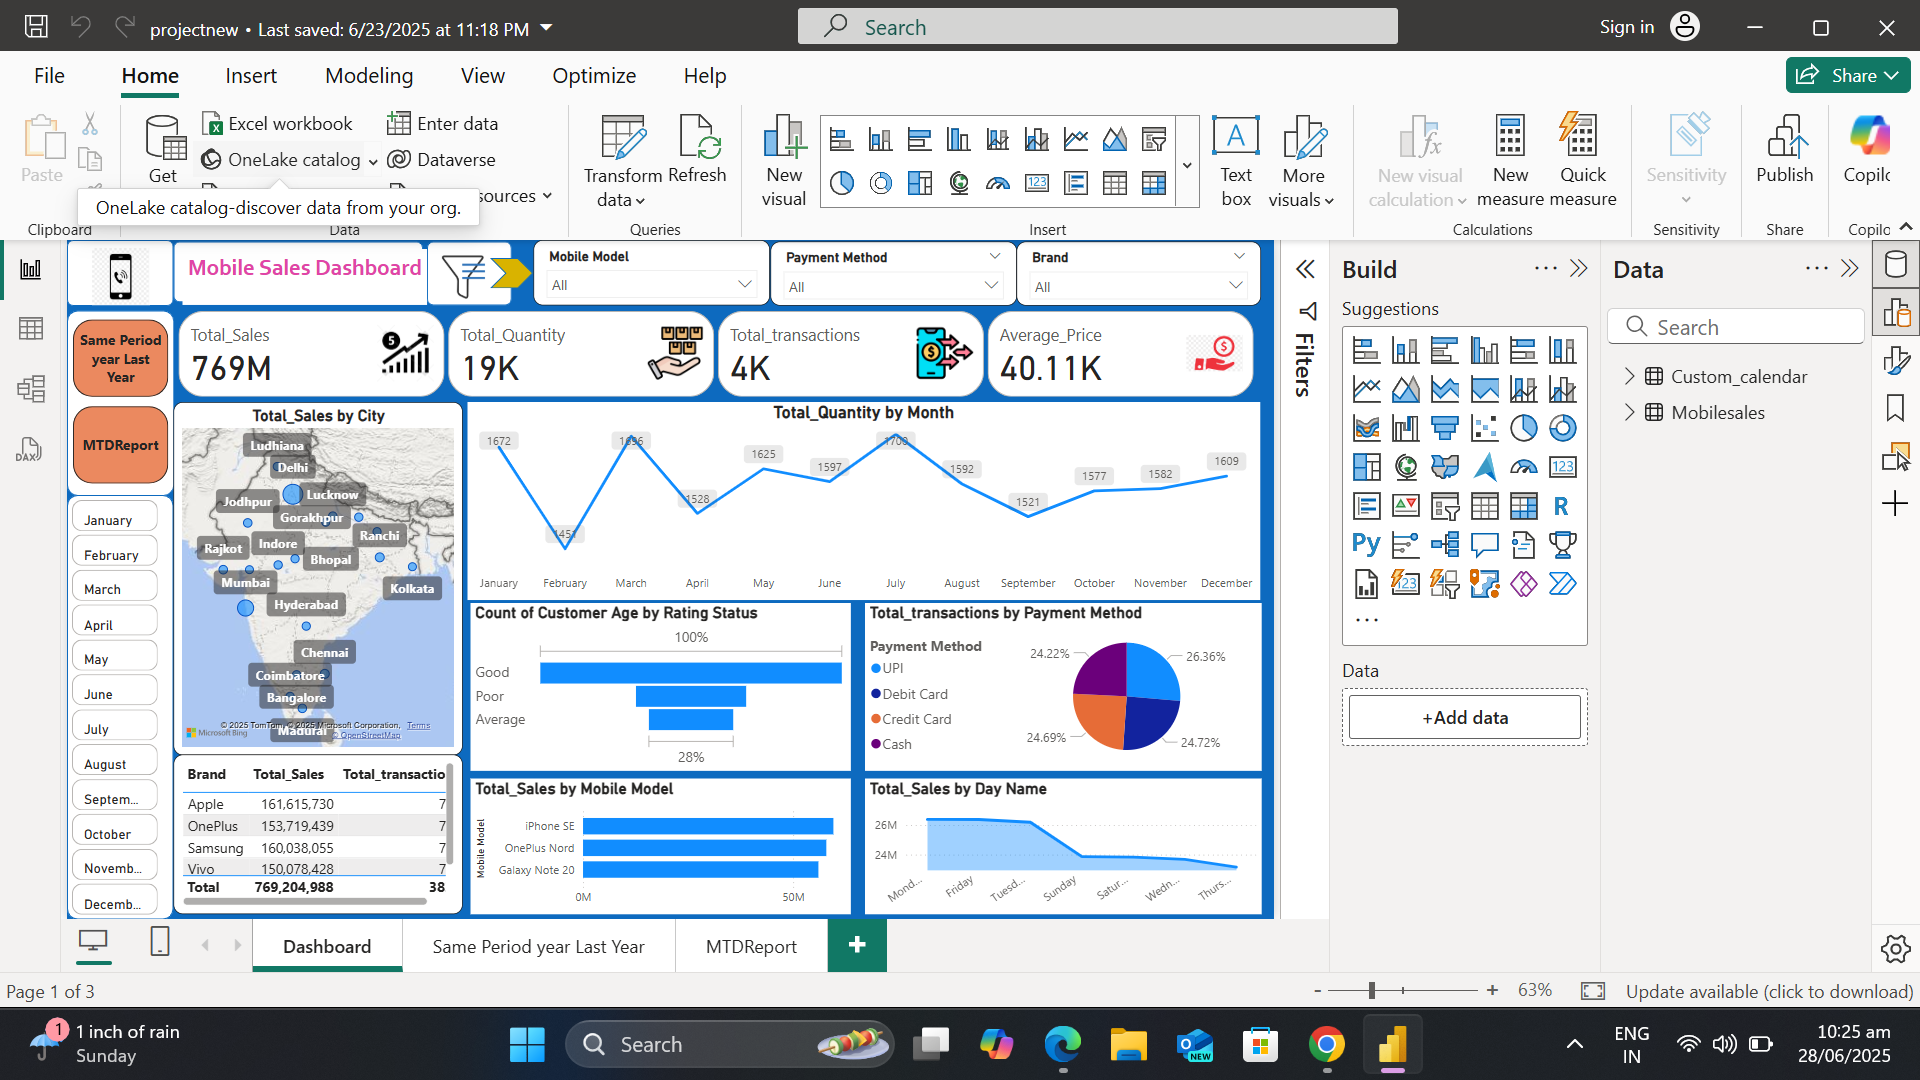

Layout of this report page (visuals, bound fields, positions):
{"tool":"powerbi","page":{"name":"Dashboard","canvas":[1280,720],"ordinal":0},"visuals":[{"type":"shape","box":[0,0,112.9,70],"z":0},{"type":"shape","box":[0,74.6,113.6,196.6],"z":1000},{"type":"shape","box":[0,270.4,112.9,450.1],"z":2000},{"type":"advancedSlicerVisual","fields":{"Values":["Custom_calendar.Date.Variation.Date Hierarchy.Month"]},"box":[0,270.4,101.8,450.1],"z":3000},{"type":"cardVisual","fields":{"Data":["Mobilesales.Total_Sales","Mobilesales.Total_Quantity","Mobilesales.Total_transactions","Mobilesales.Average_Price"]},"box":[113.6,69.5,1152.5,101.7],"z":4000},{"type":"slicer","fields":{"Values":["Mobilesales.Mobile Model"]},"box":[494.9,0,250.8,69.5],"z":5000},{"type":"slicer","fields":{"Values":["Mobilesales.Payment Method"]},"box":[745.8,1.7,261,67.8],"z":6000},{"type":"slicer","fields":{"Values":["Mobilesales.Brand"]},"box":[1006.8,1.7,259.3,67.8],"z":7000},{"type":"shape","box":[381.4,1.7,89.8,67.8],"z":8000},{"type":"shape","box":[449.2,18.6,45.8,32.2],"z":9000},{"type":"shape","box":[113.6,1.7,264.4,64.4],"z":10000},{"type":"textbox","box":[122,10.2,259.3,59.3],"z":11000},{"type":"map","fields":{"Category":["Mobilesales.City"],"Size":["Mobilesales.Total_Sales"]},"box":[113.6,171.2,306.8,374.6],"z":12000},{"type":"lineChart","fields":{"Category":["Custom_calendar.Date.Variation.Date Hierarchy.Month"],"Y":["Mobilesales.Total_Quantity"]},"box":[425.4,171.2,840.7,210.2],"z":13000},{"type":"funnel","fields":{"Y":["CountNonNull(Mobilesales.Customer Age)"],"Category":["Mobilesales.Rating Status"]},"box":[427.1,384.7,403.4,178],"z":14000},{"type":"pieChart","fields":{"Y":["Mobilesales.Total_transactions"],"Category":["Mobilesales.Payment Method"]},"box":[845.8,384.7,420.3,178],"z":15000},{"type":"clusteredBarChart","fields":{"Y":["Mobilesales.Total_Sales"],"Category":["Mobilesales.Mobile Model"]},"box":[427.1,571.2,403.4,144.1],"z":16000},{"type":"areaChart","fields":{"Y":["Mobilesales.Total_Sales"],"Category":["Custom_calendar.Day Name"]},"box":[845.8,571.2,420.3,144.1],"z":17000},{"type":"tableEx","fields":{"Values":["Mobilesales.Brand","Mobilesales.Total_Sales","Mobilesales.Total_transactions"]},"box":[113.6,545.8,306.8,169.5],"z":18000},{"type":"image","box":[15.3,3.4,81.4,71.2],"z":19000},{"type":"image","box":[389.8,8.5,61,62.7],"z":20000},{"type":"pageNavigator","box":[6.1,85.1,101.3,174.2],"z":20001}]}

Visuals, with their boxes on the page's 1280x720 design canvas (x1, y1, x2, y2). These are canvas units, not pixel positions in the 1920x1080 screenshot, which may show the page scaled, cropped or inside an application window:
shape: <box>0,0,113,70</box>
shape: <box>0,75,114,271</box>
shape: <box>0,270,113,720</box>
advancedSlicerVisual - Custom_calendar.Date.Variation.Date Hierarchy.Month: <box>0,270,102,720</box>
cardVisual - Mobilesales.Total_Sales x Mobilesales.Total_Quantity: <box>114,70,1266,171</box>
slicer - Mobilesales.Mobile Model: <box>495,0,746,70</box>
slicer - Mobilesales.Payment Method: <box>746,2,1007,70</box>
slicer - Mobilesales.Brand: <box>1007,2,1266,70</box>
shape: <box>381,2,471,70</box>
shape: <box>449,19,495,51</box>
shape: <box>114,2,378,66</box>
textbox: <box>122,10,381,70</box>
map - Mobilesales.City x Mobilesales.Total_Sales: <box>114,171,420,546</box>
lineChart - Custom_calendar.Date.Variation.Date Hierarchy.Month x Mobilesales.Total_Quantity: <box>425,171,1266,381</box>
funnel - CountNonNull(Mobilesales.Customer Age) x Mobilesales.Rating Status: <box>427,385,830,563</box>
pieChart - Mobilesales.Total_transactions x Mobilesales.Payment Method: <box>846,385,1266,563</box>
clusteredBarChart - Mobilesales.Total_Sales x Mobilesales.Mobile Model: <box>427,571,830,715</box>
areaChart - Mobilesales.Total_Sales x Custom_calendar.Day Name: <box>846,571,1266,715</box>
tableEx - Mobilesales.Brand x Mobilesales.Total_Sales: <box>114,546,420,715</box>
image: <box>15,3,97,75</box>
image: <box>390,8,451,71</box>
pageNavigator: <box>6,85,107,259</box>
